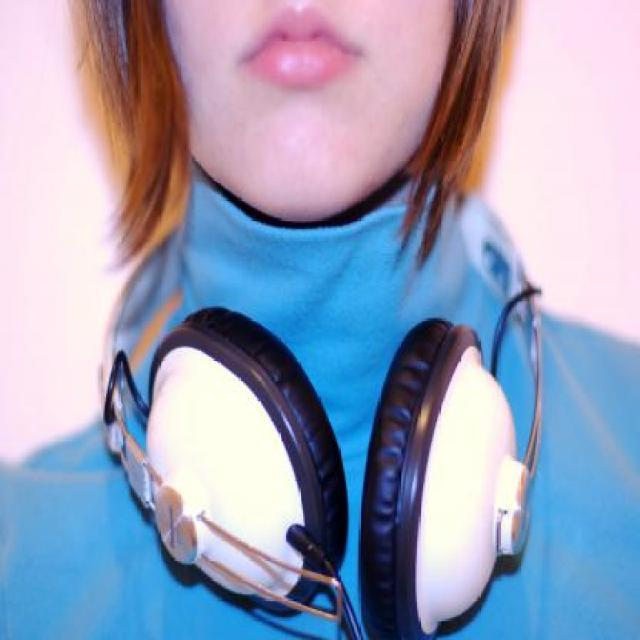earphone: (103, 232, 575, 636)
